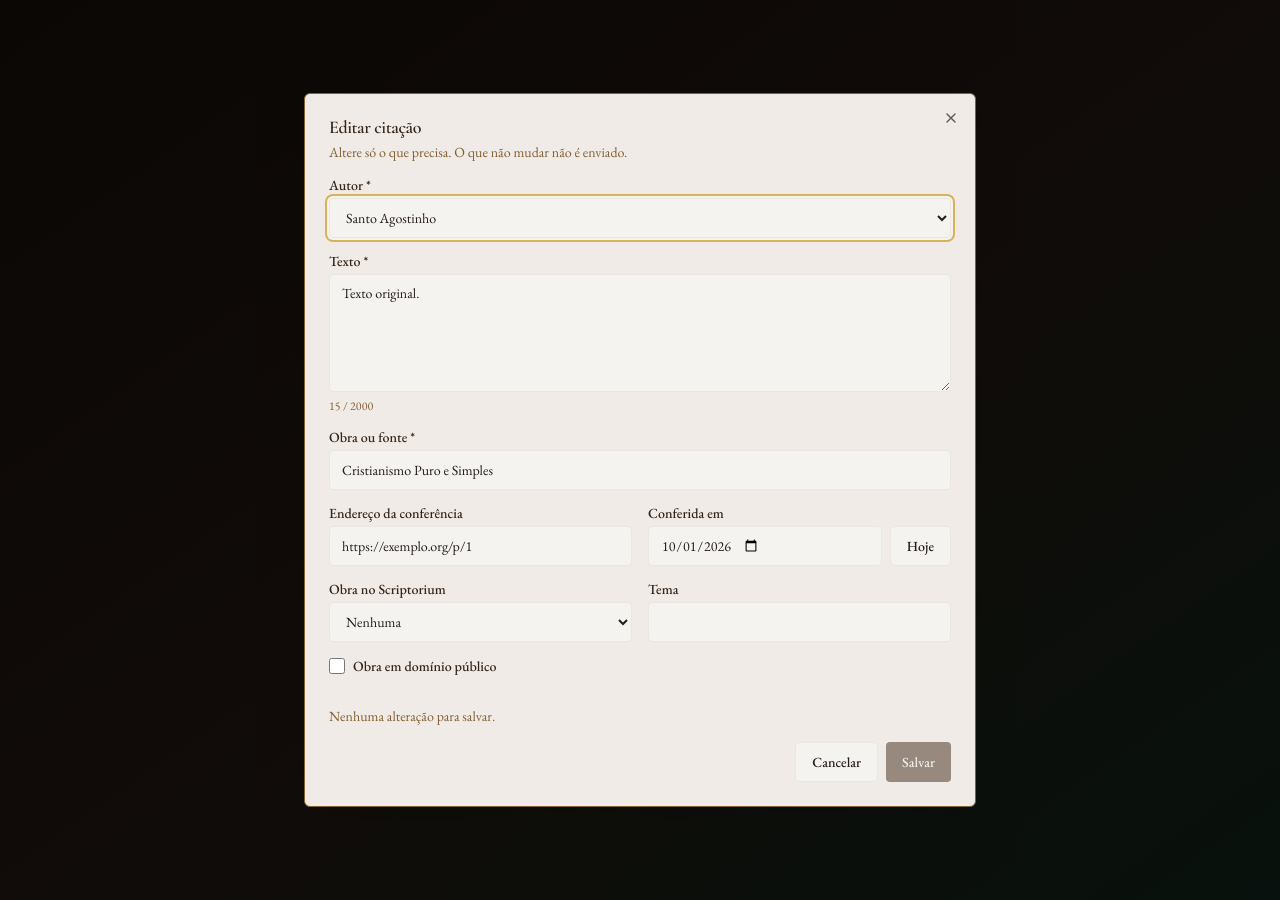
Test: QuoteFormDialog: aviso do Gerador › trocar o autor para Lewis entra; trocar de Lewis para outro sai
The width and height of the screenshot is (1280, 900).
Select "C. S. Lewis" in the dropdown labelled "Autor *" at (640, 218), box [329,198,951,238]
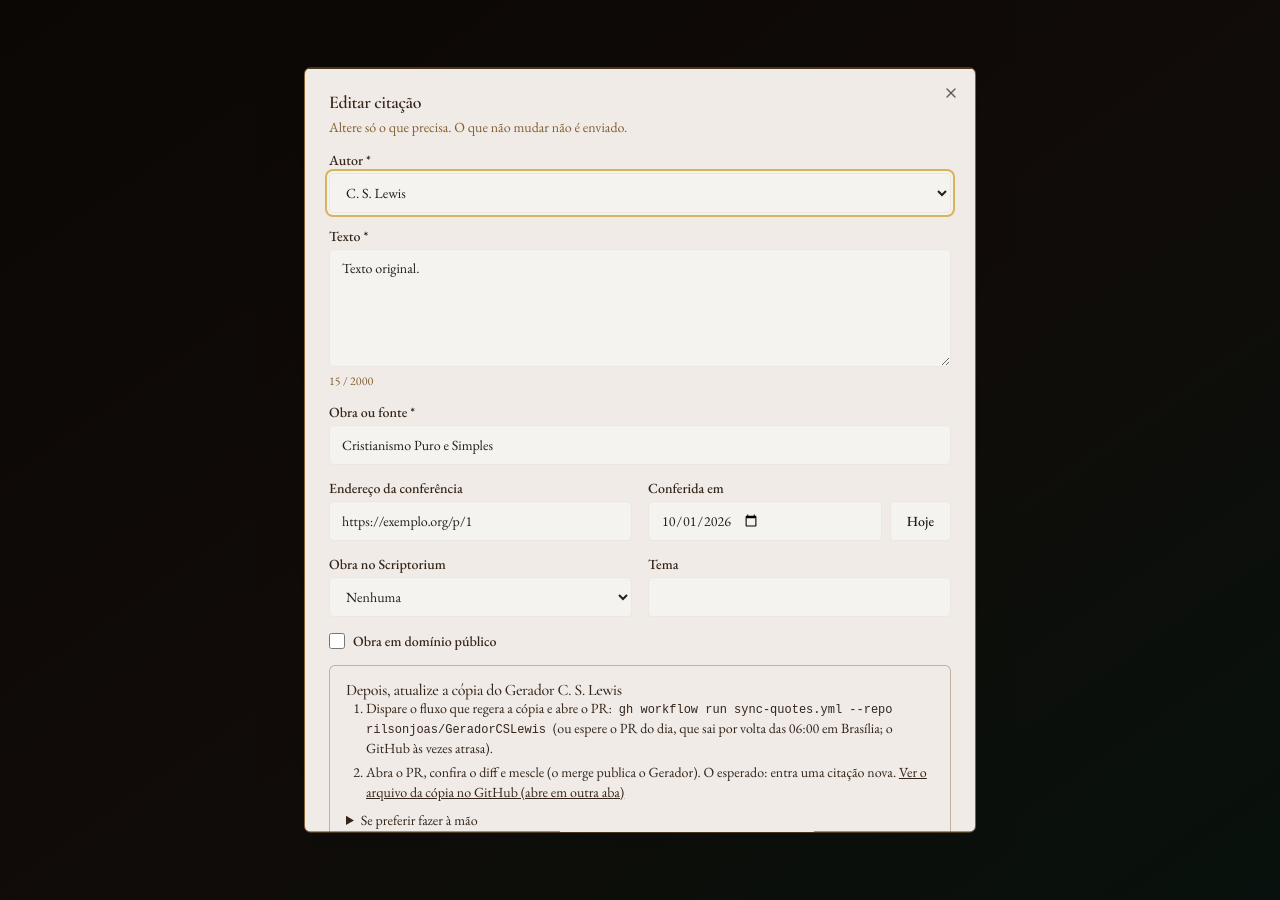
Expected: the text "entra uma citação nova" is shown, [770,762,893,780]
